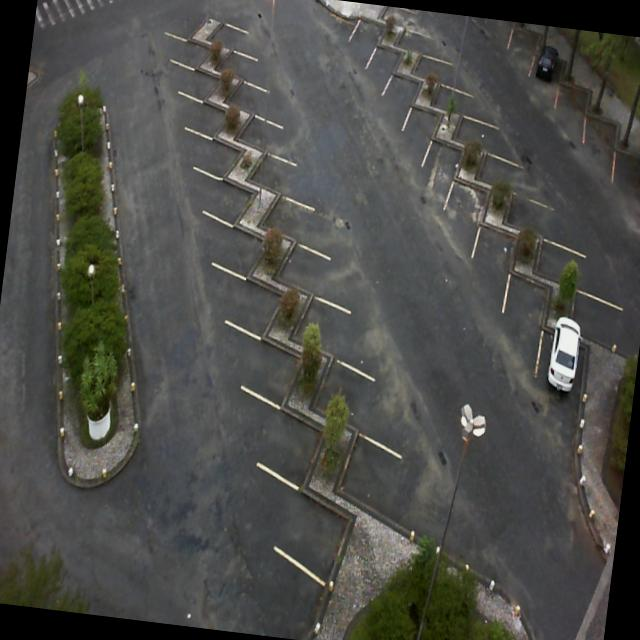car: (541, 309, 585, 399), (534, 38, 558, 82)
